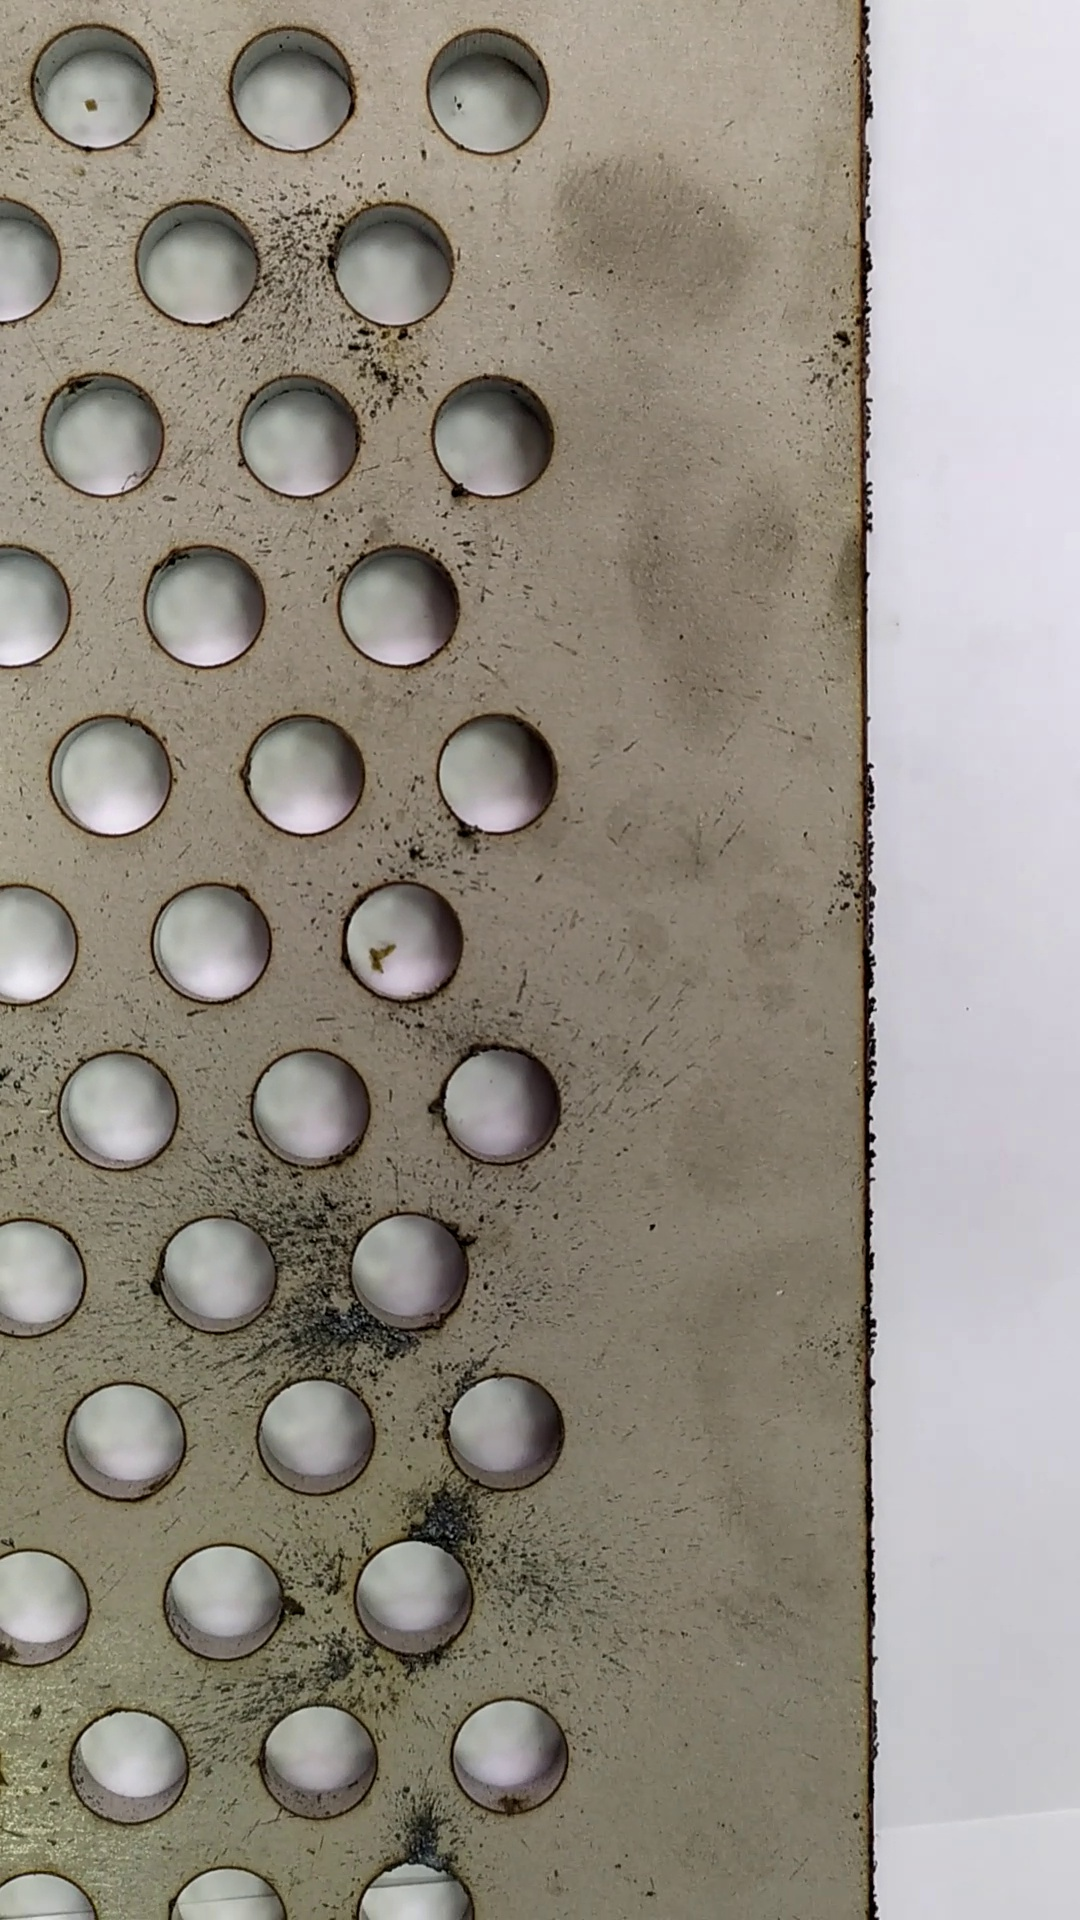Hole: (32, 360, 185, 509), (216, 17, 363, 170), (124, 530, 281, 673), (422, 1034, 582, 1174), (47, 1693, 208, 1832), (425, 360, 574, 506), (320, 193, 475, 330), (411, 18, 556, 164), (41, 707, 191, 847), (232, 703, 382, 843), (241, 1366, 394, 1503), (229, 1040, 385, 1175), (41, 1046, 196, 1179), (345, 1197, 495, 1336), (426, 705, 579, 840), (322, 534, 467, 675), (128, 189, 269, 332), (44, 1371, 196, 1503), (224, 368, 369, 505), (20, 18, 165, 154), (245, 1695, 392, 1828), (152, 1538, 301, 1668), (433, 1364, 574, 1501), (436, 1689, 582, 1822), (332, 873, 473, 1007), (142, 1201, 287, 1332), (142, 876, 273, 1019), (340, 1536, 489, 1660)
